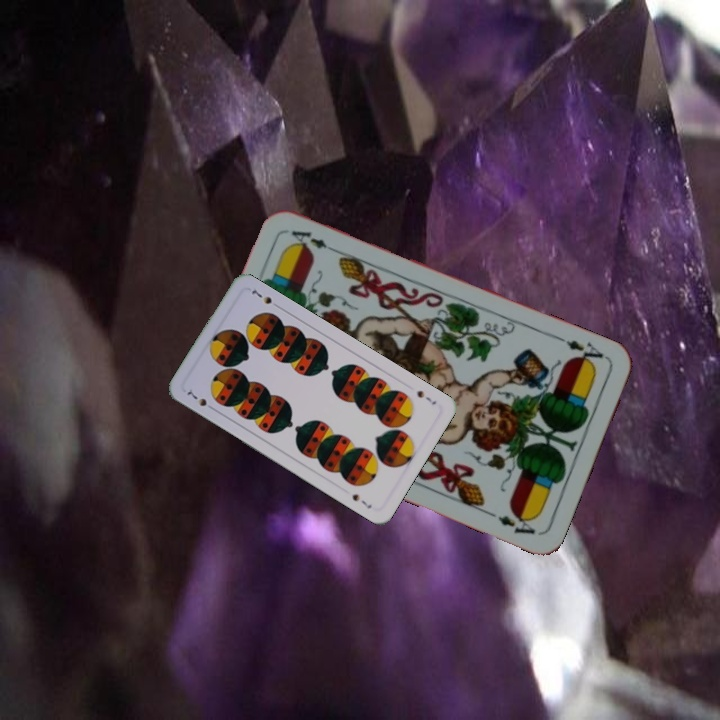EA: (554, 332, 611, 369)
S7: (181, 385, 218, 413), (413, 386, 439, 407)
